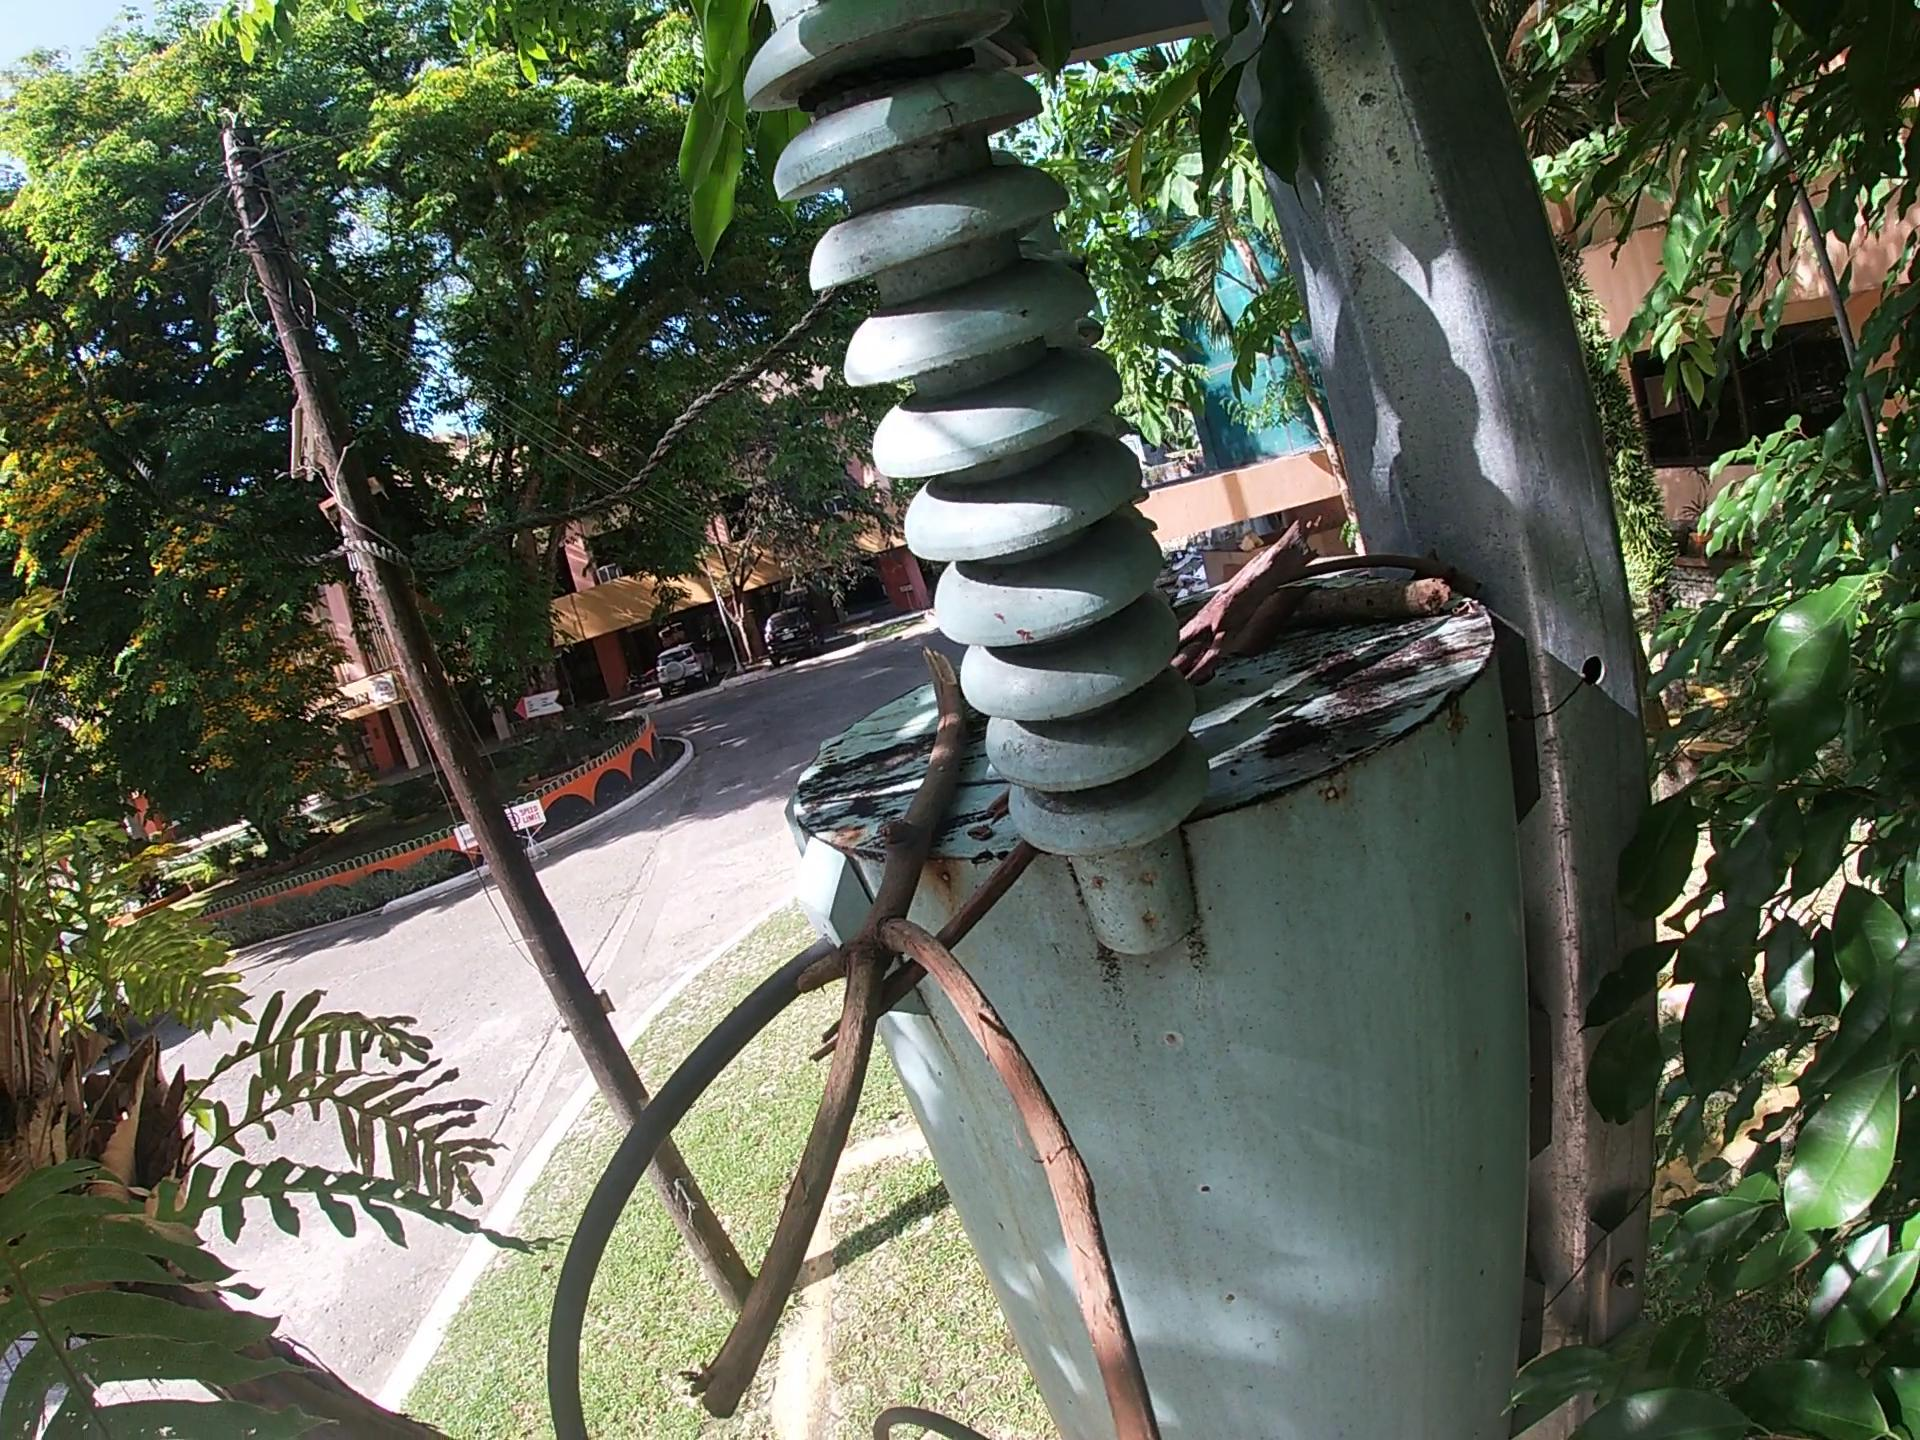leaf: (1268, 578, 1329, 655)
tree branch: (653, 649, 1188, 1428), (824, 844, 1036, 1042), (1181, 526, 1342, 694), (1250, 573, 1457, 640), (1302, 546, 1463, 590), (968, 803, 1005, 833), (965, 771, 1017, 790)
